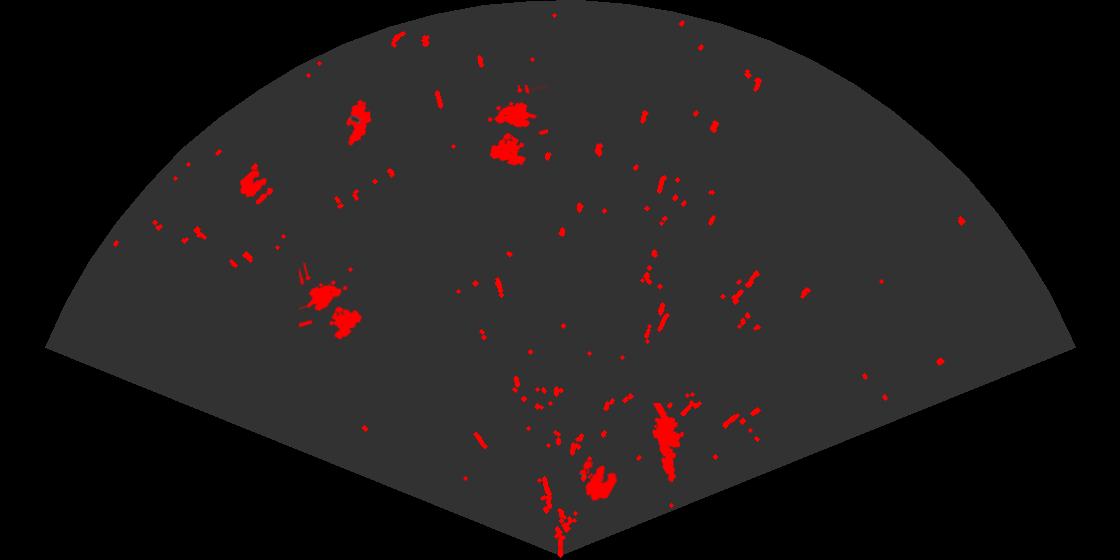AUV: (345, 98, 373, 147)
ball: (578, 459, 619, 503), (239, 169, 275, 206)
cage: (299, 263, 364, 342), (486, 85, 548, 167)
frogman: (651, 403, 686, 484)
